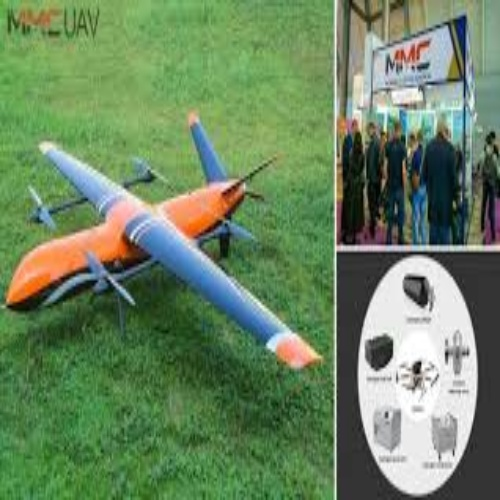uav462: (3, 111, 322, 372)
